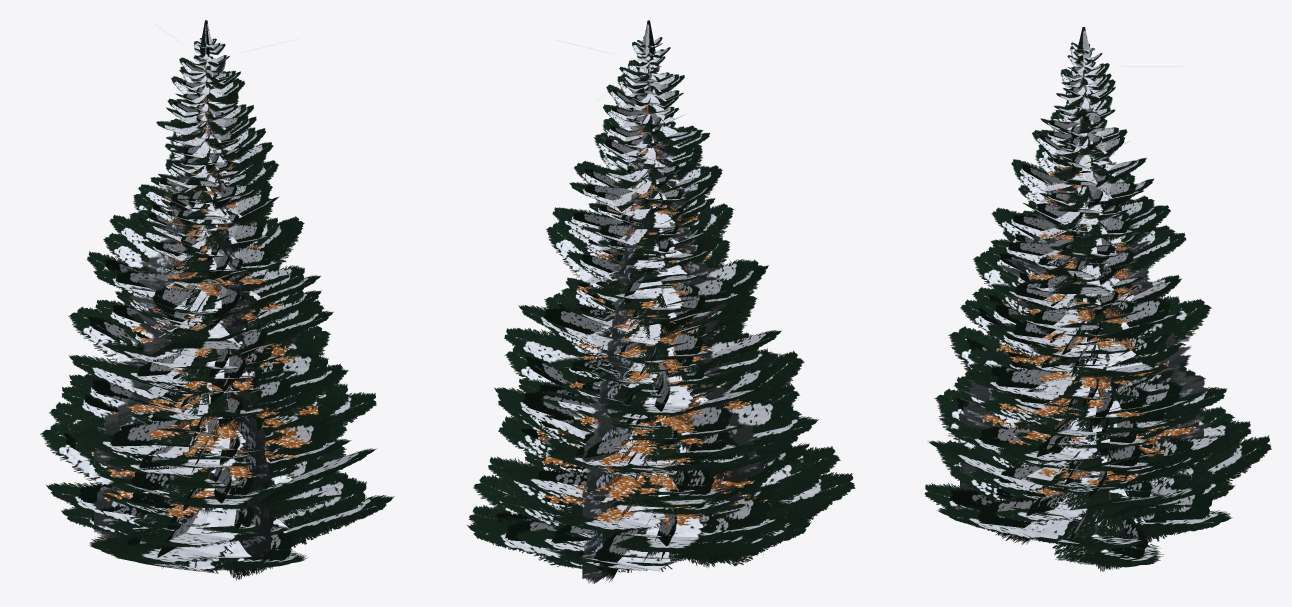
The model's file is trees.glb.
3 views of the same model, side by side, from view 1: azimuth 30°, elevation 25°; view 2: azimuth 150°, elevation 25°; view 3: azimuth 270°, elevation 25° (orthographic). The views are drawn at different scales.
Parts seen in each view (by area): view 1: spruce_2, spruce_0, spruce_far, larch_0, larch_far, spruce_1, larch_1; view 2: spruce_2, spruce_0, larch_0, spruce_far, larch_far, spruce_1, larch_1; view 3: spruce_2, spruce_0, larch_0, larch_far, spruce_1, spruce_far, larch_1.
Part boxes in pixels (x1,y1,x2,y2): spruce_2: [40, 20, 394, 568]; spruce_0: [60, 131, 346, 580]; spruce_far: [94, 121, 270, 558]; larch_0: [86, 97, 318, 518]; larch_far: [97, 95, 314, 547]; spruce_1: [74, 271, 327, 539]; larch_1: [91, 259, 293, 497]; spruce_2: [467, 20, 855, 582]; spruce_0: [469, 133, 832, 572]; larch_0: [536, 104, 767, 526]; spruce_far: [582, 125, 763, 583]; larch_far: [562, 104, 760, 553]; spruce_1: [526, 329, 779, 559]; larch_1: [568, 238, 731, 495]; spruce_2: [927, 27, 1271, 550]; spruce_0: [924, 132, 1210, 571]; larch_0: [982, 122, 1195, 497]; larch_far: [963, 93, 1203, 491]; spruce_1: [950, 260, 1200, 522]; spruce_far: [960, 131, 1207, 504]; larch_1: [1004, 266, 1165, 481].
Bounding box in the file's own units: 15.27 × 22.83 × 15.27.
Materials: 7 (5 with a texture image).
